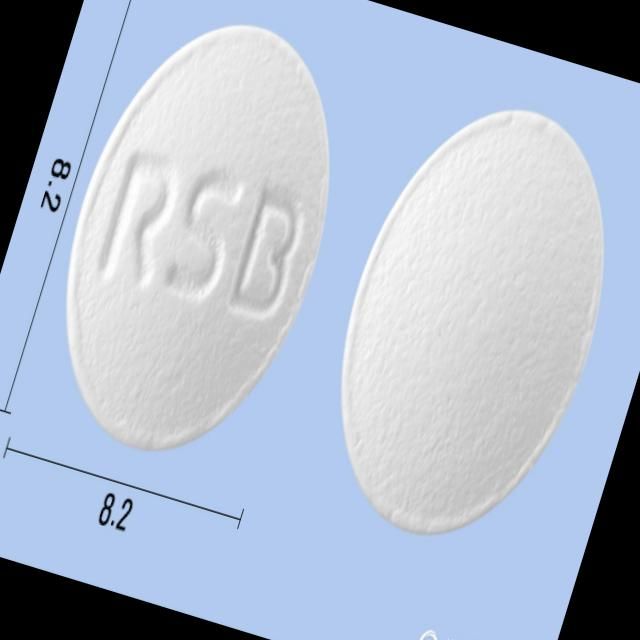Loxavit: (17, 0, 378, 483)
